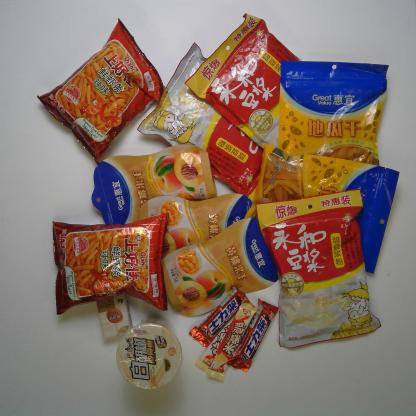Chocolate: (204, 298, 258, 382), (193, 299, 252, 374), (187, 284, 250, 348), (226, 296, 277, 374)
Dried Fruit: (254, 142, 400, 275), (276, 59, 390, 196), (156, 217, 278, 319), (91, 144, 219, 230), (140, 190, 256, 268)
Instant Drink: (135, 42, 313, 202), (184, 13, 352, 170), (255, 189, 380, 348)
Instant Noodles: (114, 322, 183, 394)
Puffed Food: (34, 18, 173, 164), (51, 210, 171, 318)
Tissue: (96, 288, 136, 342)
